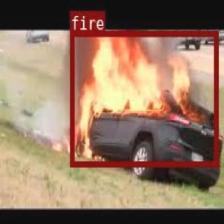fire: (69, 30, 217, 166)
